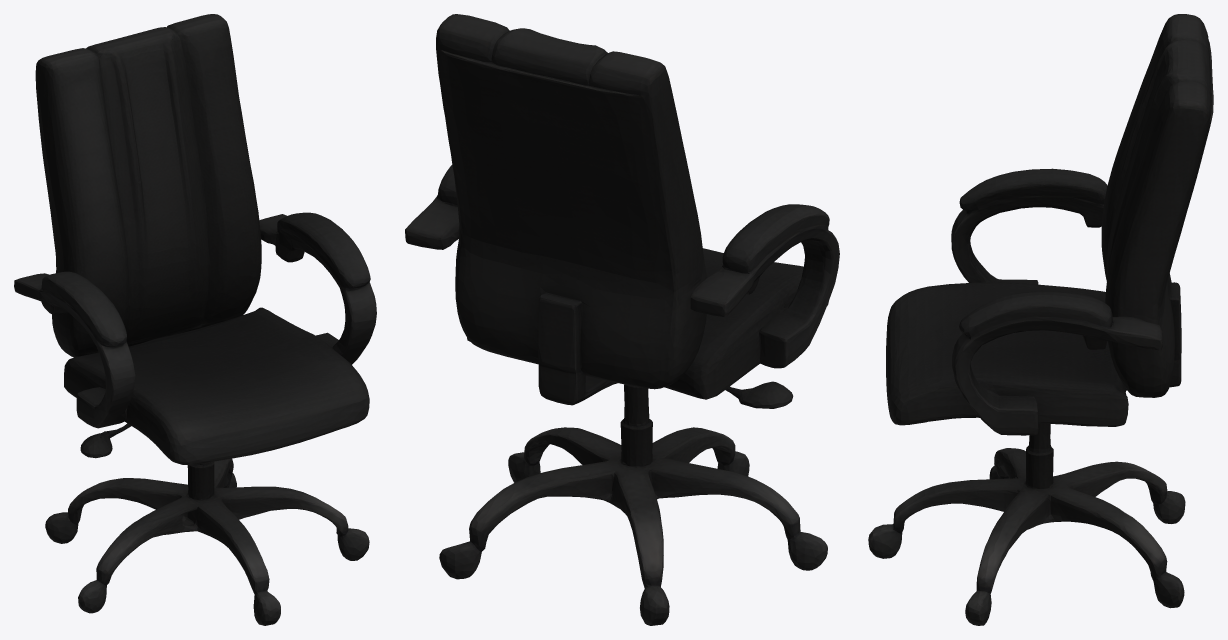
Rendered from office chair.glb.
The picture shows the model from 3 angles, left to right: view 1: azimuth 30°, elevation 25°; view 2: azimuth 150°, elevation 25°; view 3: azimuth 270°, elevation 25°; orthographic projection. The views are drawn at different scales.
Visible parts, largest first — view 1: world; view 2: world; view 3: world.
Boxes of the visible parts, x1=… form: world: x1=14, y1=14, x2=376, y2=625; world: x1=405, y1=14, x2=839, y2=625; world: x1=868, y1=14, x2=1213, y2=625.
Bounding box in the file's own units: 0.6129 × 0.9993 × 0.6197.
1 material, 1 textured.
